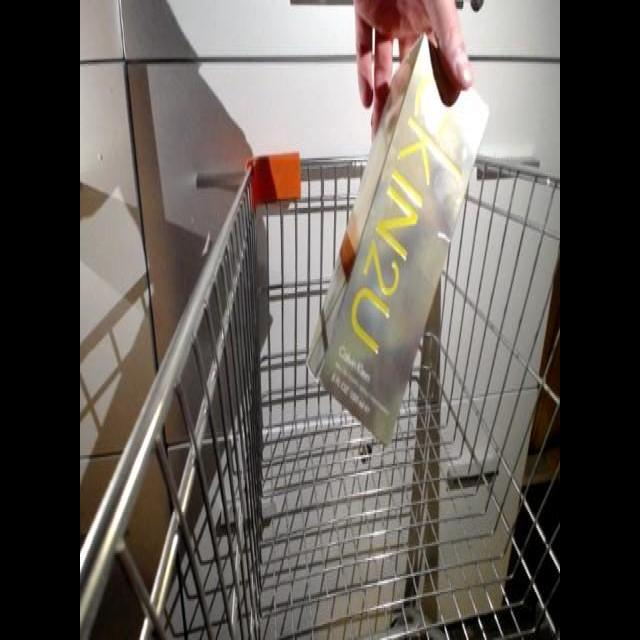Calvin Klein: (303, 41, 500, 444)
